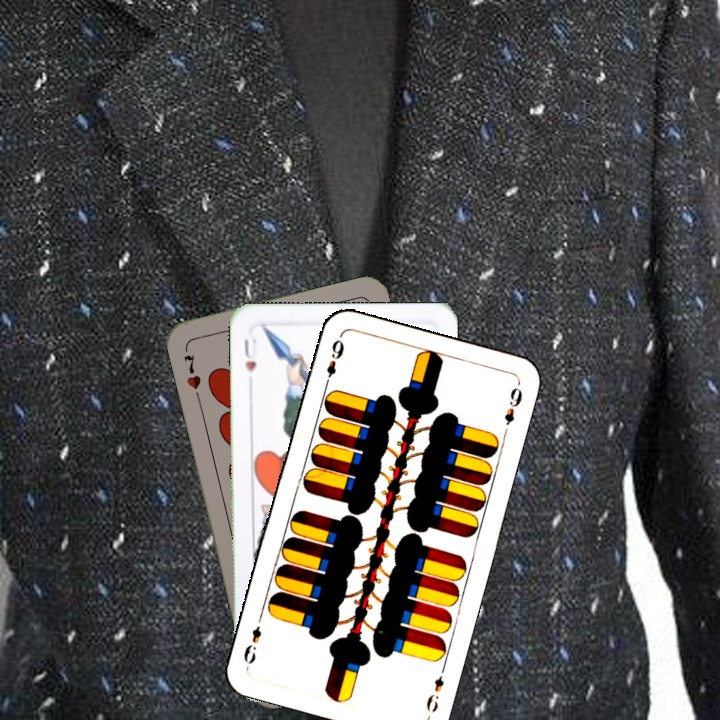E9: (320, 335, 347, 390), (422, 671, 447, 715)
H7: (179, 350, 204, 392)
HU: (240, 334, 259, 375)
